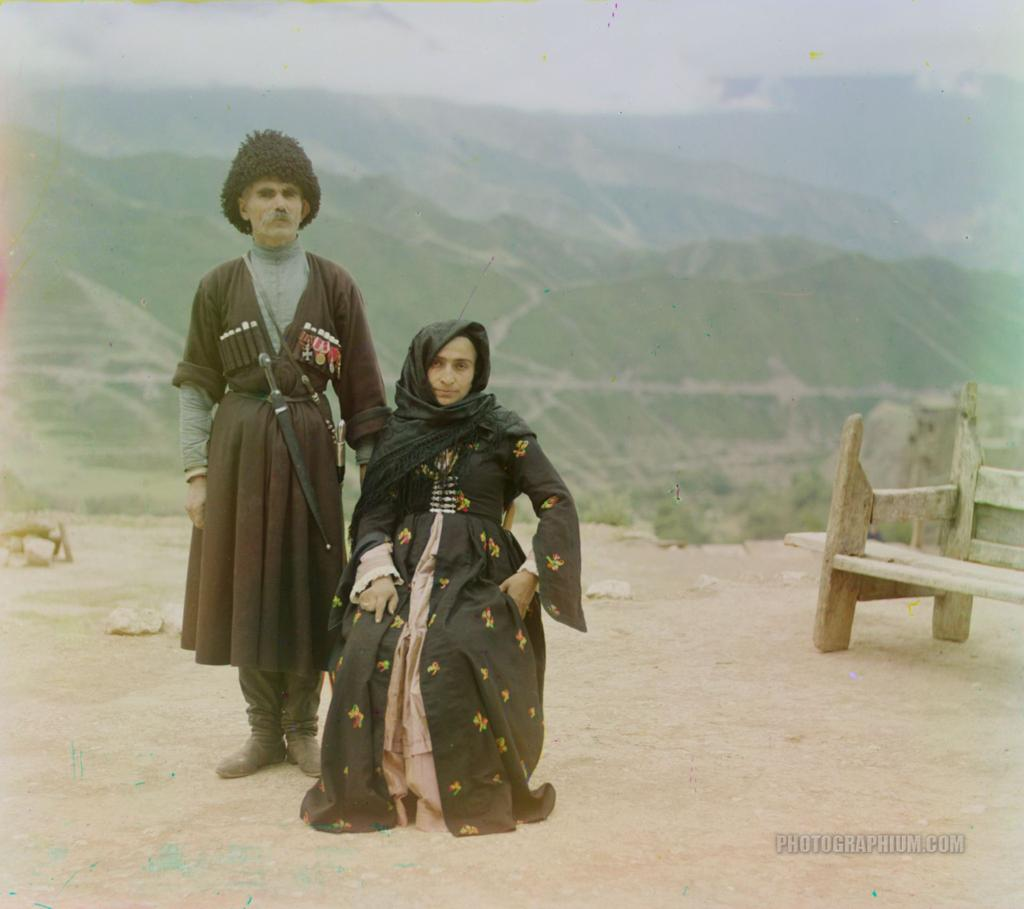face: (248, 170, 302, 239), (426, 337, 476, 406)
